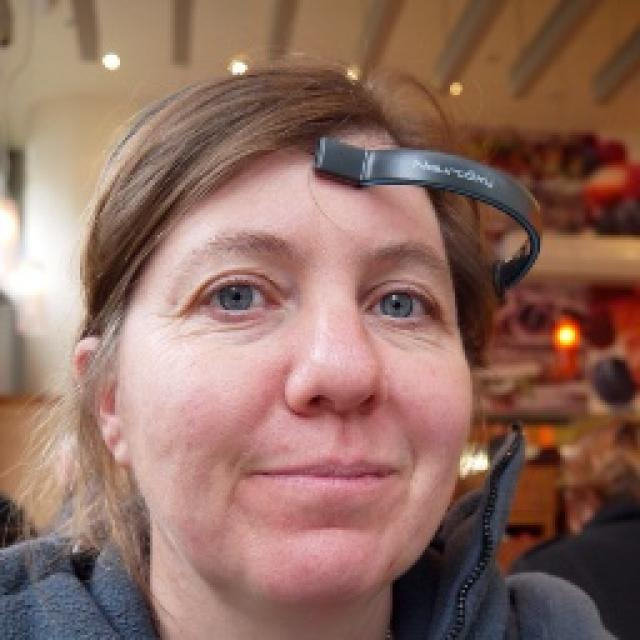earlobe: (73, 341, 134, 472)
